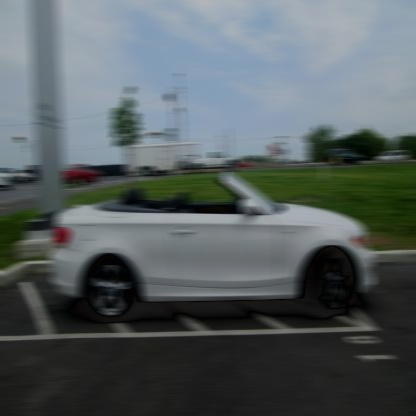Vehicle: (51, 172, 375, 324)
